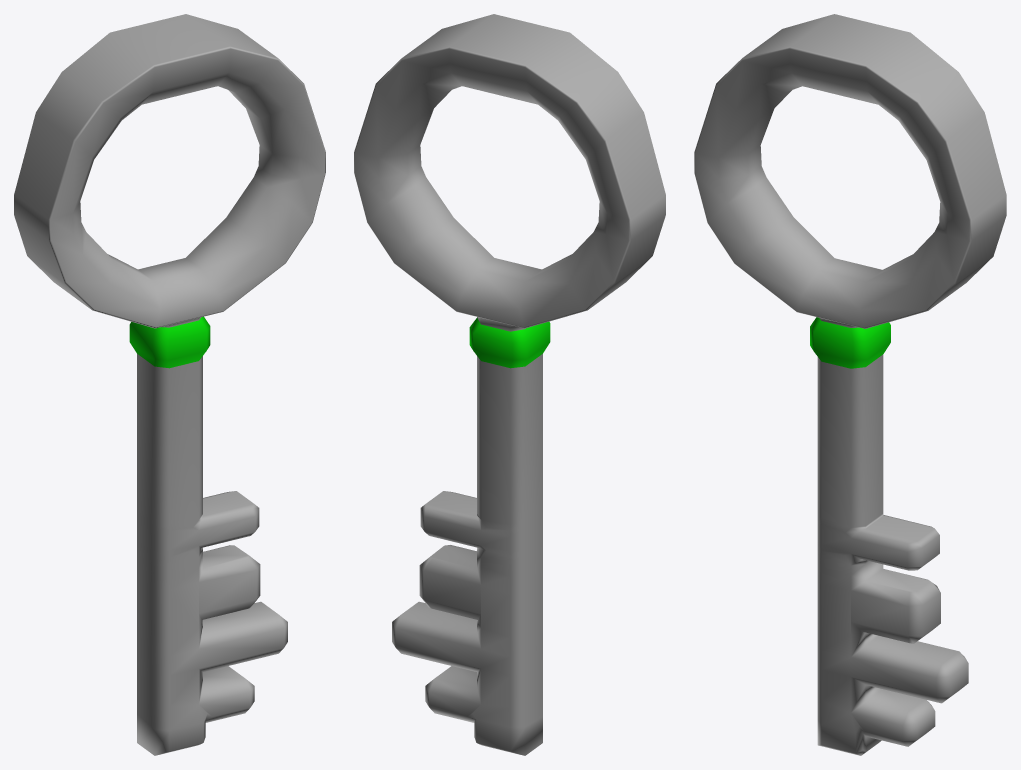
The model's file is key 2.fbx.
3 views of the same model, side by side, from view 1: azimuth 30°, elevation 25°; view 2: azimuth 150°, elevation 25°; view 3: azimuth 330°, elevation 25° (orthographic).
Parts seen in each view (by area): view 1: de_key2; view 2: de_key2; view 3: de_key2.
Part boxes in pixels (<box>): de_key2: <box>14,14,325,755</box>; de_key2: <box>354,14,665,755</box>; de_key2: <box>694,14,1006,755</box>.
Size of the model in its own units: 4.39 by 10.65 by 1.26.
